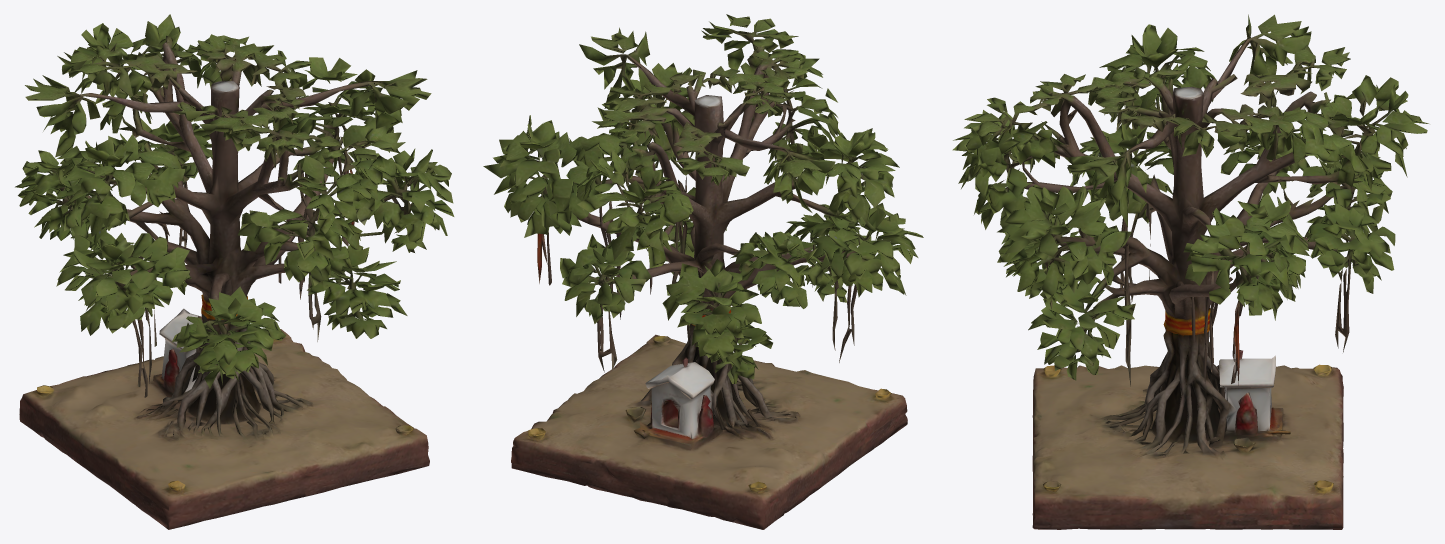
The model's file is pipal_shrine.glb.
The picture shows the model from 3 angles, left to right: view 1: azimuth 30°, elevation 25°; view 2: azimuth 150°, elevation 25°; view 3: azimuth 270°, elevation 25°; orthographic projection. The views are drawn at different scales.
Visible parts, largest first — view 1: tripo_node_93f2cc2d-cbd0-429f-99dd-aa3600eebf44; view 2: tripo_node_93f2cc2d-cbd0-429f-99dd-aa3600eebf44; view 3: tripo_node_93f2cc2d-cbd0-429f-99dd-aa3600eebf44.
Part boxes in pixels (x1,y1,x2,y2): tripo_node_93f2cc2d-cbd0-429f-99dd-aa3600eebf44: (15, 14, 454, 529); tripo_node_93f2cc2d-cbd0-429f-99dd-aa3600eebf44: (483, 14, 923, 529); tripo_node_93f2cc2d-cbd0-429f-99dd-aa3600eebf44: (952, 14, 1428, 529).
Bounding box in the file's own units: 0.8773 × 0.8 × 0.9261.
Materials: 1 (1 with a texture image).
